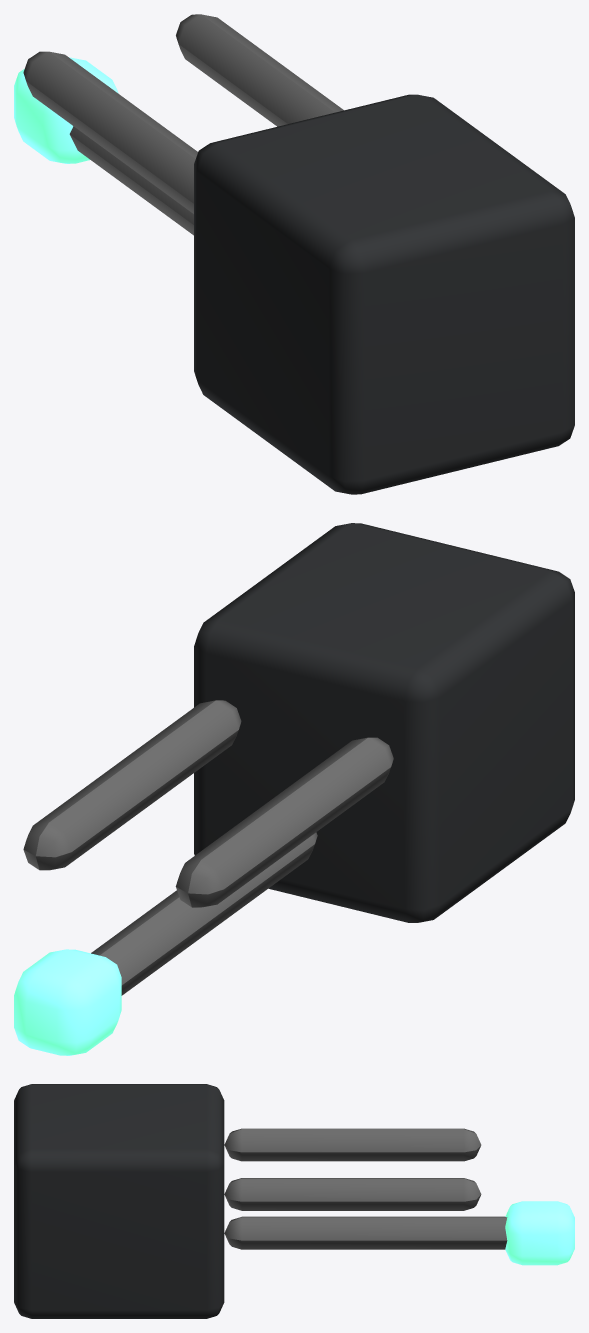
File: disarm-head.glb
3 renders of one model, top to bottom at view 1: azimuth 30°, elevation 25°; view 2: azimuth 150°, elevation 25°; view 3: azimuth 270°, elevation 25°, orthographic. The views are drawn at different scales.
Parts seen in each view (by area): view 1: disarm-head; view 2: disarm-head; view 3: disarm-head.
Part boxes in pixels (x1,y1,x2,y2): disarm-head: [14, 14, 574, 494]; disarm-head: [14, 523, 574, 1055]; disarm-head: [14, 1084, 574, 1318].
Size of the model in its own units: 0.16 by 0.16 by 0.48.
